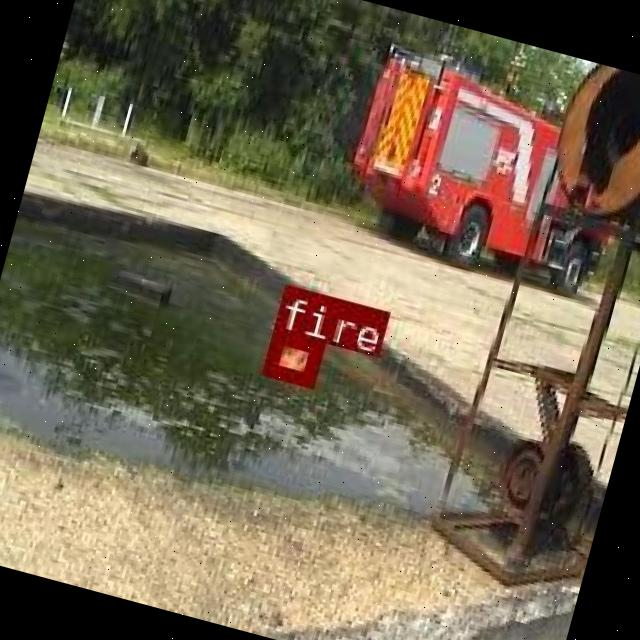fire: (260, 326, 320, 386)
